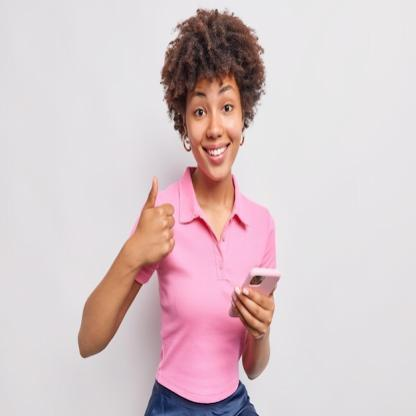thumb_up: (132, 174, 176, 266)
